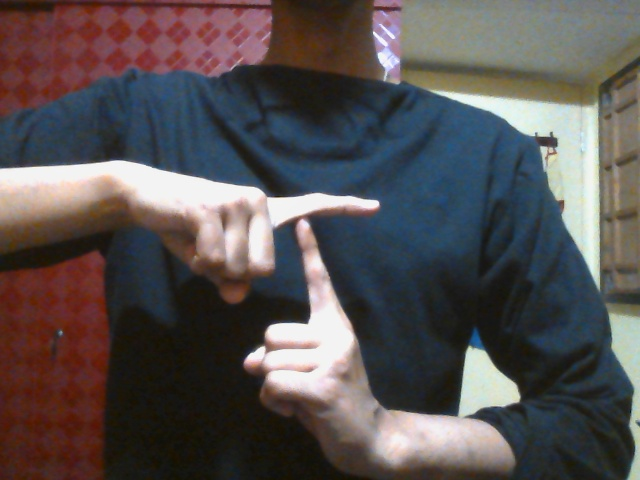T: (145, 177, 385, 421)
